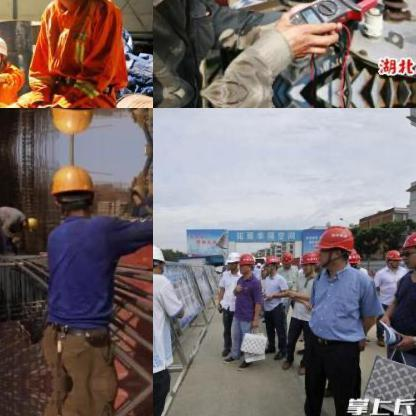Helmet: (50, 162, 98, 220), (314, 224, 352, 266), (49, 108, 99, 135), (397, 227, 415, 267), (153, 241, 166, 276), (298, 248, 316, 272), (19, 211, 39, 231), (384, 247, 400, 268), (0, 32, 9, 67), (344, 245, 358, 267), (262, 254, 278, 272), (237, 252, 251, 272), (224, 250, 238, 270), (279, 249, 293, 267), (147, 177, 152, 198)
